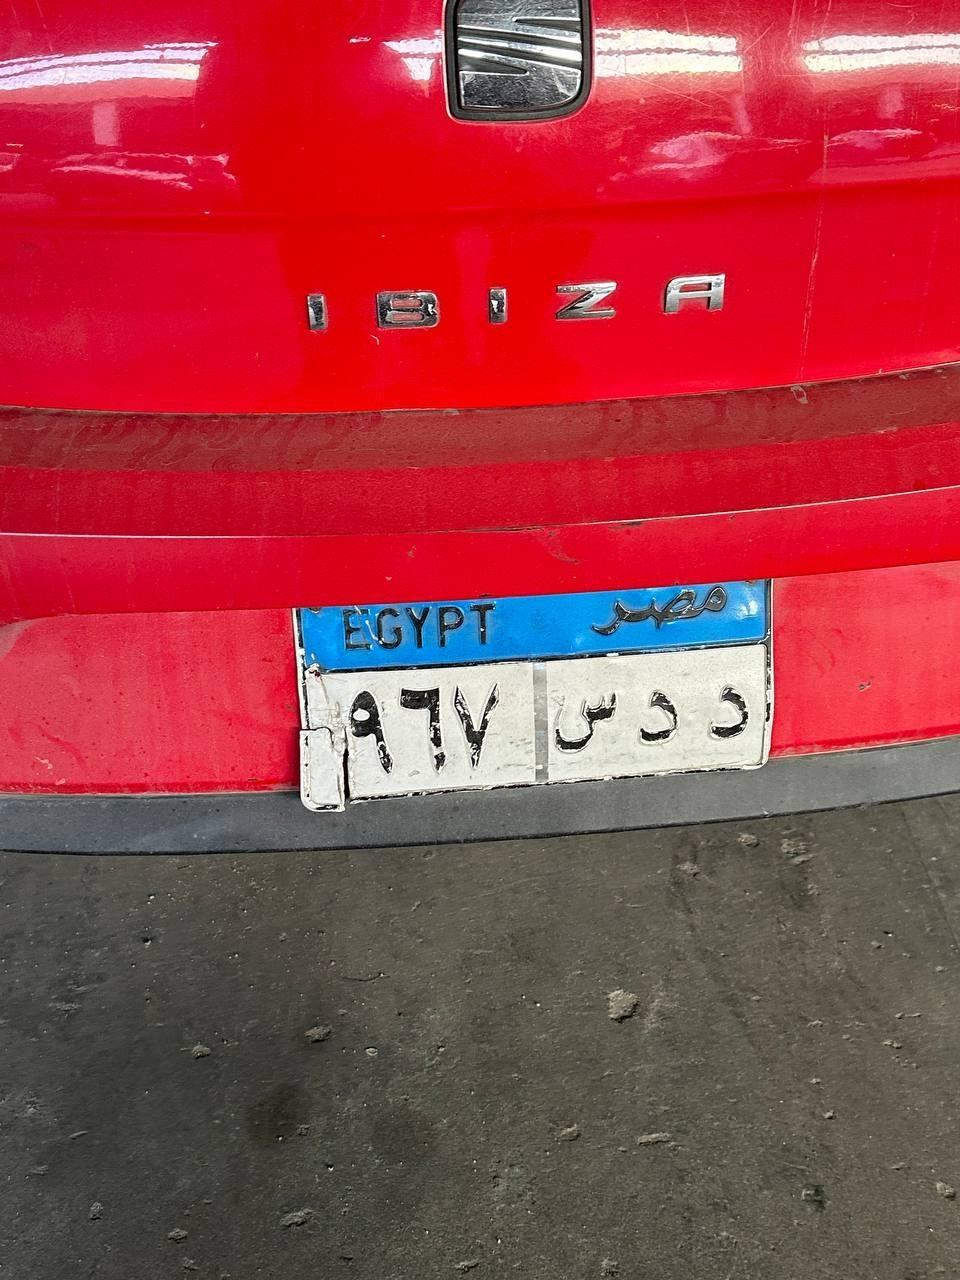6: (392, 682, 457, 776)
7: (448, 681, 502, 770)
9: (343, 689, 405, 774)
License Plate: (289, 576, 775, 813)
Seen: (548, 692, 620, 770)
alef: (706, 679, 750, 740), (641, 686, 678, 746)
